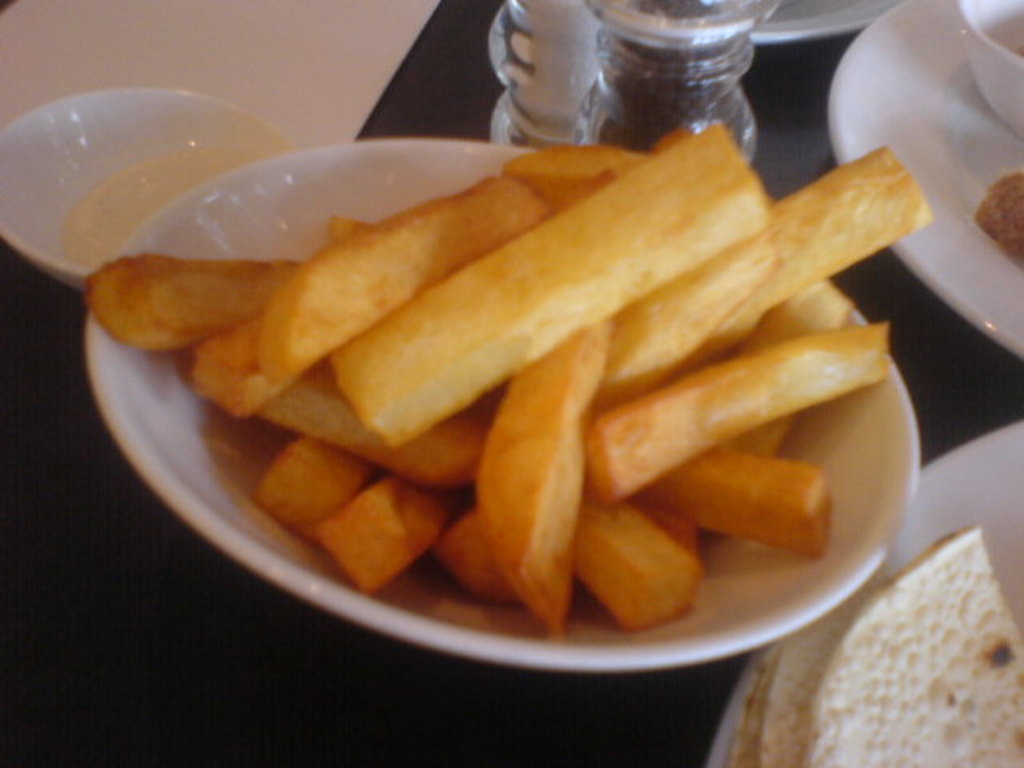French fries: (76, 113, 935, 643)
